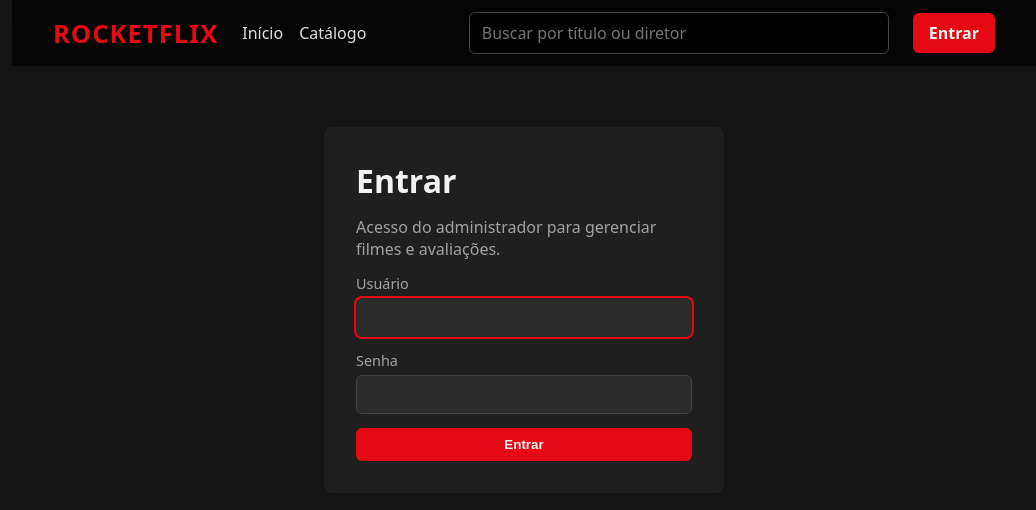
Test: autenticação › login com sucesso guarda a sessão e volta para o início
In the field labelled "Usuário": x=524, y=318 [356,298,692,337], type "admin"
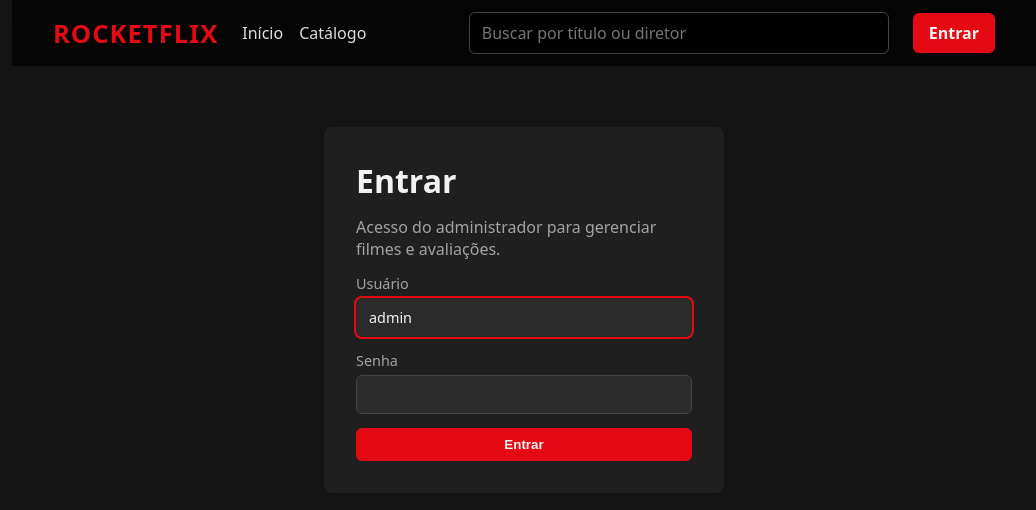
In the password field labelled "Senha": x=524, y=395 [356,375,692,414], type "admin123"
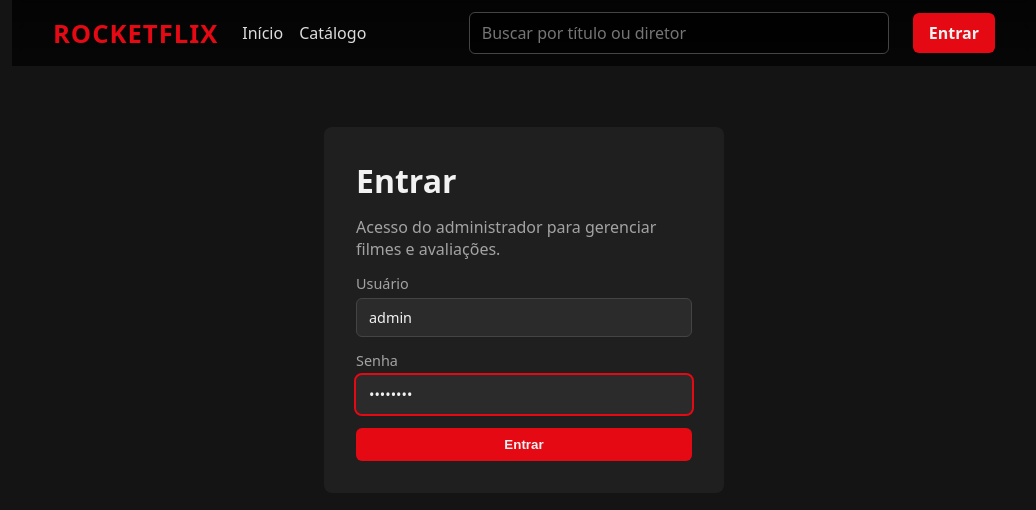
Click the button "Entrar": x=524, y=445 [356,428,692,461]
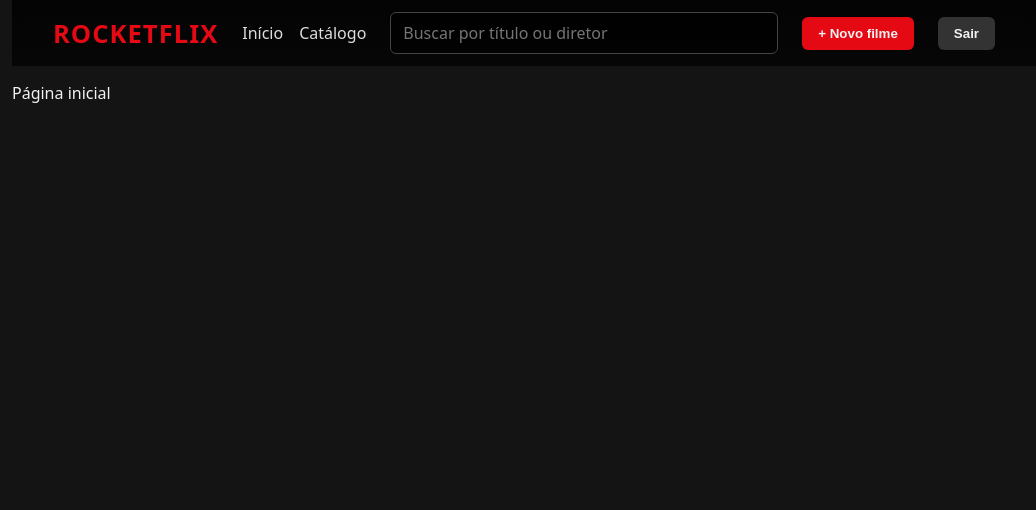
Expected: the text "Página inicial" is shown, [12,82,111,104]
